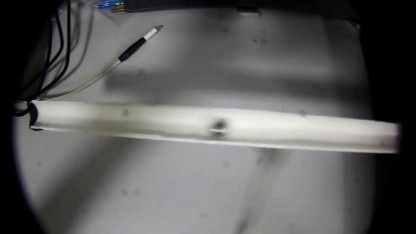gangzhu: (208, 117, 228, 137)
